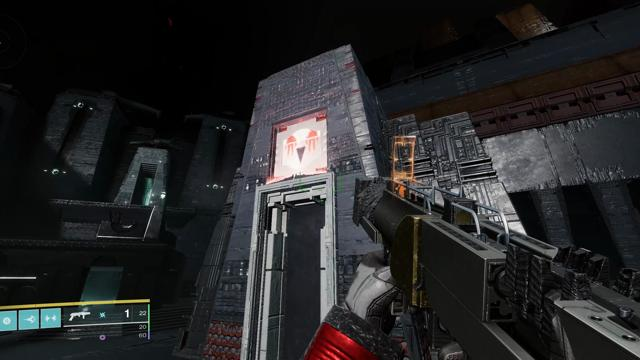give: (283, 128, 321, 169)
